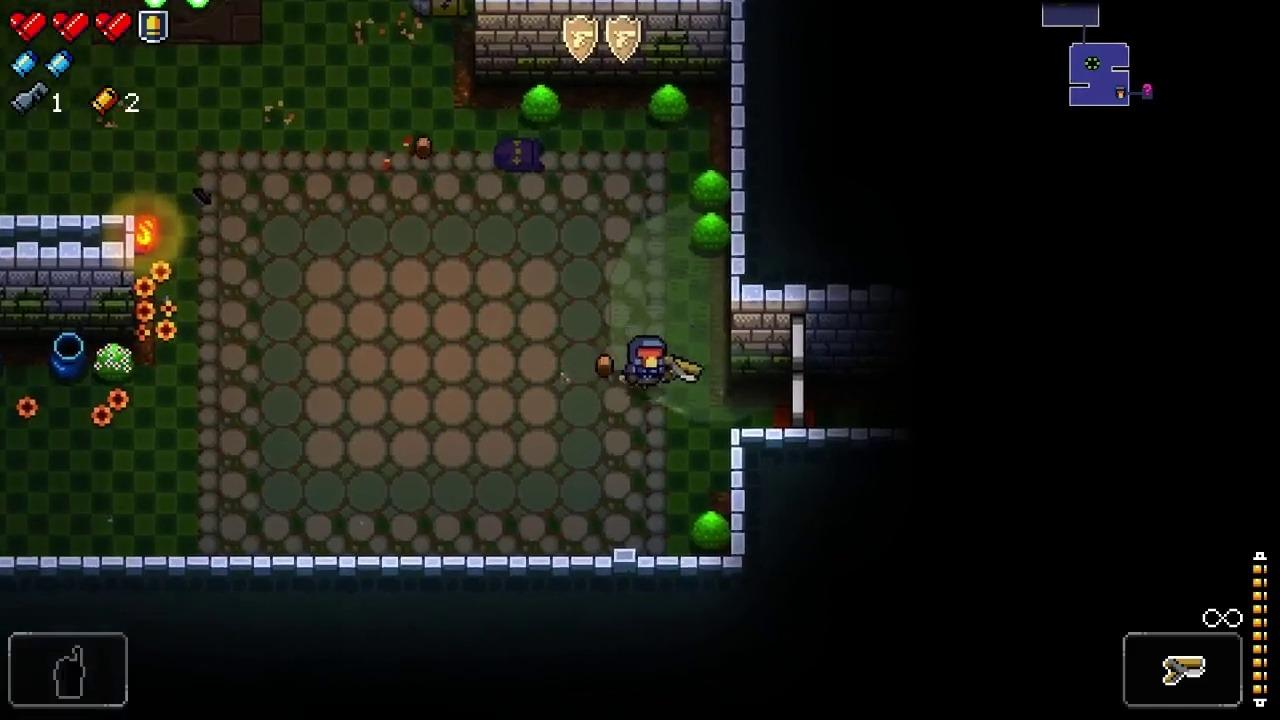player: (628, 333, 666, 387)
rubber_kin: (494, 136, 545, 174)
unlocked_door: (791, 314, 806, 427)
